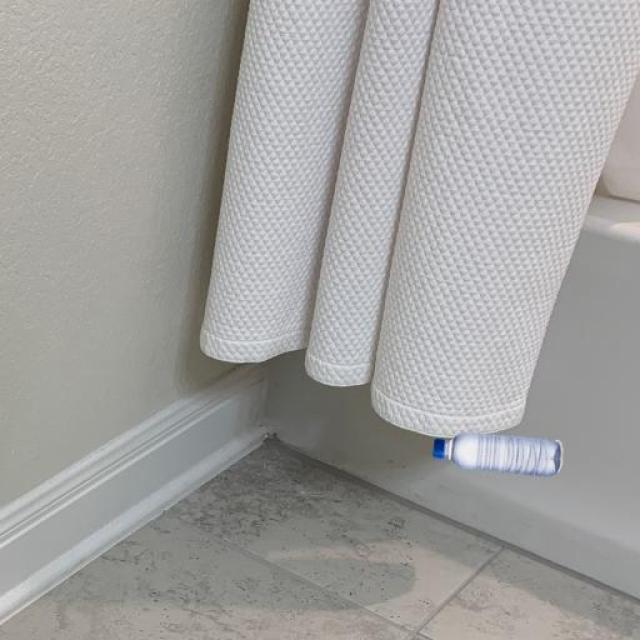bottle: (430, 432, 564, 476)
